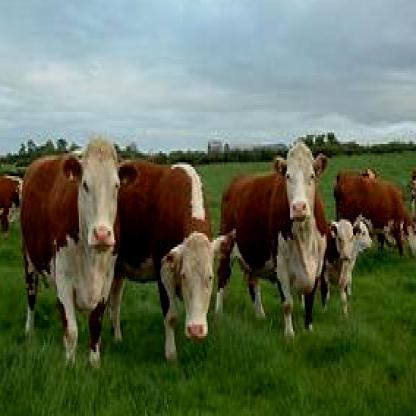cow: (18, 132, 136, 364), (214, 144, 331, 338), (107, 158, 215, 363), (332, 176, 415, 262), (325, 212, 359, 317), (353, 213, 376, 256)
